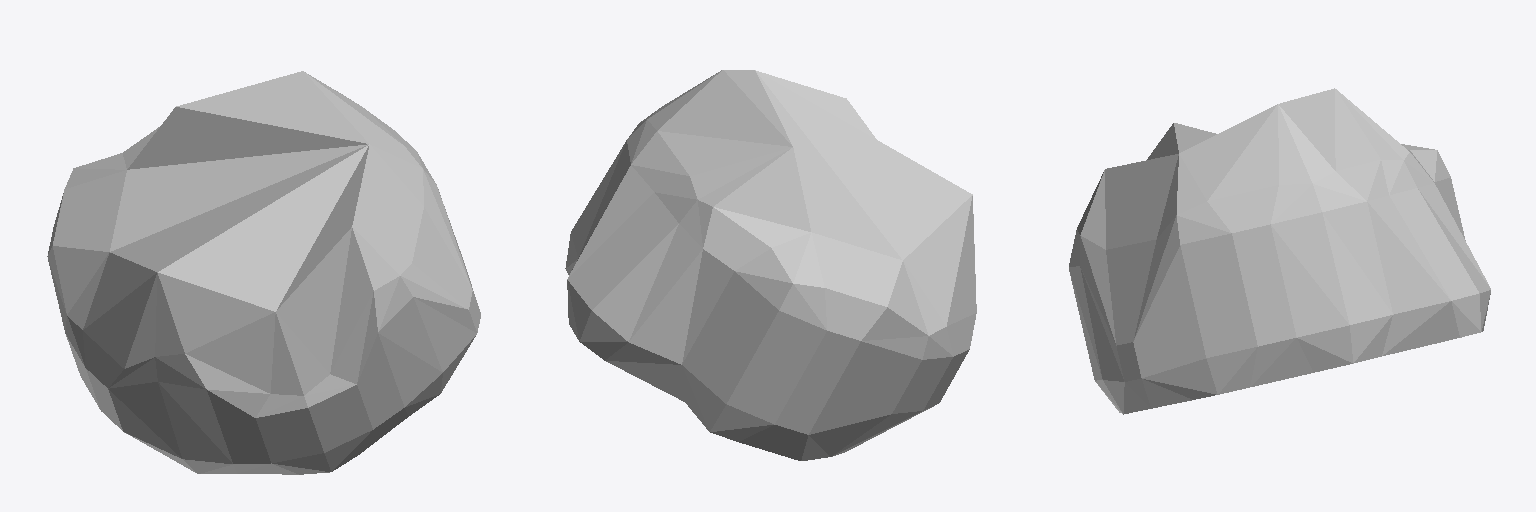
File: roche.obj
The picture shows the model from 3 angles: view 1: azimuth 30°, elevation 25°; view 2: azimuth 150°, elevation 25°; view 3: azimuth 270°, elevation 25°; orthographic projection.
Parts seen in each view (by area): view 1: Cylinder.012; view 2: Cylinder.012; view 3: Cylinder.012.
Part boxes in pixels (left/top/right/bottom): Cylinder.012: left=47, top=71, right=480, bottom=474; Cylinder.012: left=565, top=70, right=976, bottom=460; Cylinder.012: left=1069, top=88, right=1490, bottom=414.
Size of the model in its own units: 1.12 by 1.05 by 1.15.